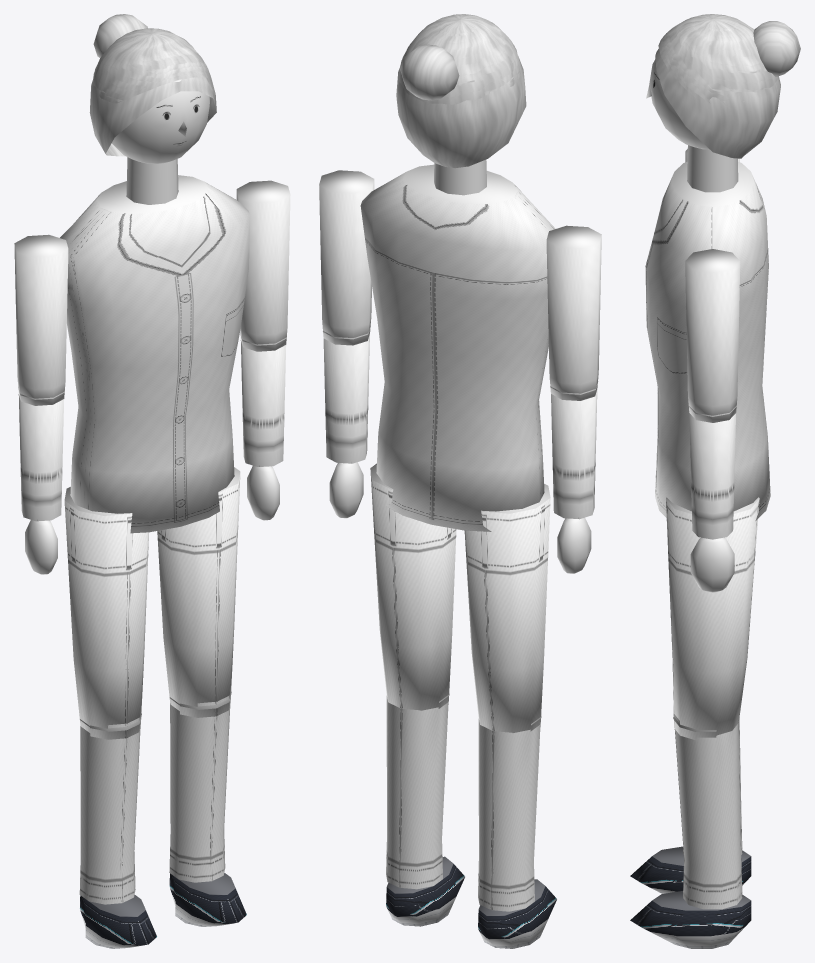
File: human.glb
3 views of the same model, side by side, from view 1: azimuth 30°, elevation 25°; view 2: azimuth 150°, elevation 25°; view 3: azimuth 270°, elevation 25° (orthographic). The views are drawn at different scales.
Parts seen in each view (by area): view 1: Torso, ThighR, ThighL, ShinR, ShinL, UpperArmR, UpperArmL, ForearmL, ForearmR, Head, HairBun, HairLong (+1 smaller); view 2: Torso, ThighR, ThighL, ShinR, ShinL, UpperArmR, UpperArmL, HairLong, ForearmL, ForearmR, HairBun, HairShort; view 3: Torso, ShinL, ThighL, UpperArmL, ForearmL, HairLong, HairBun, HairShort, ShinR, Head.
Part boxes in pixels (bbox=[...]): Torso: bbox=[60, 157, 249, 533]; ThighR: bbox=[64, 487, 148, 739]; ThighL: bbox=[157, 467, 240, 717]; ShinR: bbox=[79, 713, 156, 948]; ShinL: bbox=[169, 691, 246, 926]; UpperArmR: bbox=[14, 234, 68, 405]; UpperArmL: bbox=[236, 180, 290, 351]; ForearmL: bbox=[240, 332, 286, 520]; ForearmR: bbox=[18, 386, 64, 574]; Head: bbox=[112, 79, 210, 164]; HairBun: bbox=[93, 14, 210, 99]; HairLong: bbox=[89, 28, 216, 156]; Torso: bbox=[360, 159, 555, 531]; ThighR: bbox=[464, 483, 550, 732]; ThighL: bbox=[370, 463, 456, 710]; ShinR: bbox=[478, 716, 556, 948]; ShinL: bbox=[386, 694, 464, 926]; UpperArmR: bbox=[546, 225, 601, 400]; UpperArmL: bbox=[319, 170, 374, 345]; HairLong: bbox=[396, 17, 526, 168]; ForearmL: bbox=[323, 326, 370, 518]; ForearmR: bbox=[550, 381, 598, 573]; HairBun: bbox=[399, 14, 520, 101]; HairShort: bbox=[399, 14, 521, 104]; Torso: bbox=[645, 145, 770, 520]; ShinL: bbox=[630, 713, 751, 948]; ThighL: bbox=[666, 497, 759, 740]; UpperArmL: bbox=[685, 249, 740, 422]; ForearmL: bbox=[688, 405, 736, 593]; HairLong: bbox=[655, 14, 780, 158]; HairBun: bbox=[661, 14, 800, 106]; HairShort: bbox=[658, 14, 778, 102]; ShinR: bbox=[630, 718, 751, 893]; Head: bbox=[646, 59, 709, 149].
Bounding box in the file's own units: 0.574 × 1.8 × 0.31.
Materials: 5 (5 with a texture image).
